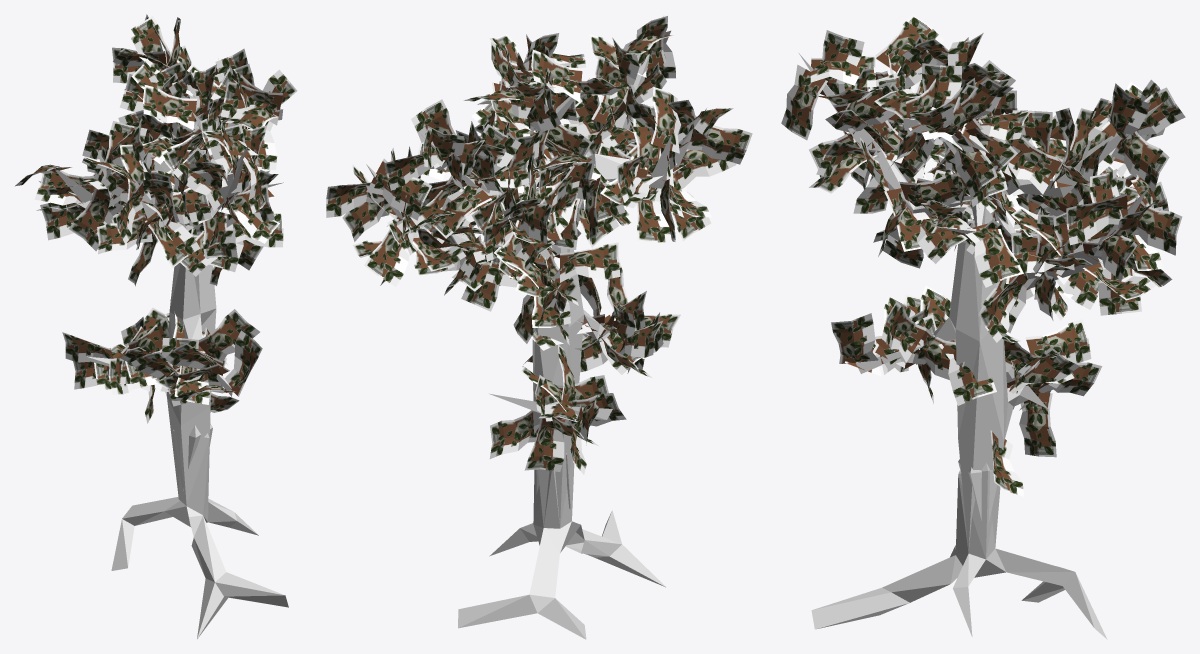
Rendered from small_lod_tree.fbx.
3 renders of one model, left to right at view 1: azimuth 30°, elevation 25°; view 2: azimuth 150°, elevation 25°; view 3: azimuth 270°, elevation 25°, orthographic. The views are drawn at different scales.
Visible parts, largest first — view 1: nranb.250, Cube; view 2: nranb.250, Cube; view 3: nranb.250, Cube.
Part boxes in pixels (x1,y1,x2,y2): nranb.250: (15,14,297,423); Cube: (55,40,288,639); nranb.250: (326,16,752,474); Cube: (366,16,706,639); nranb.250: (781,14,1185,496); Cube: (799,53,1163,639).
Size of the model in its own units: 349 by 651 by 398.
2 materials, 1 textured.
